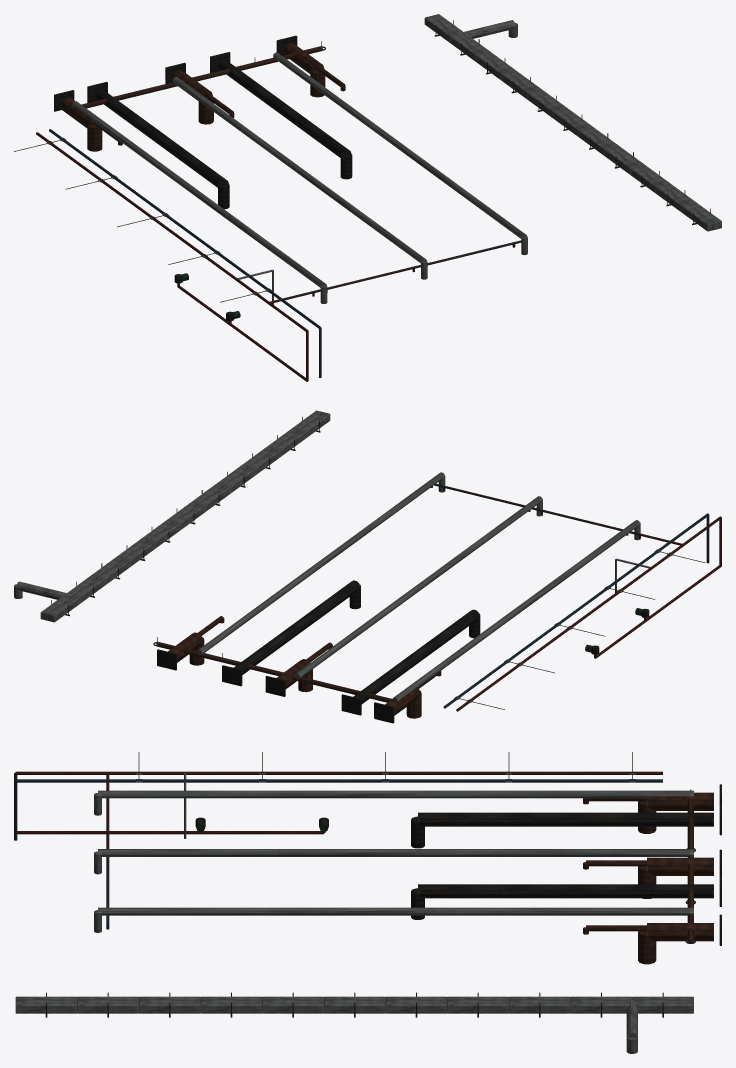
The model's file is level_school_pipework_worn.glb.
3 renders of one model, top to bottom at view 1: azimuth 30°, elevation 25°; view 2: azimuth 150°, elevation 25°; view 3: azimuth 270°, elevation 25°, orthographic. The views are drawn at different scales.
Visible parts, largest first — view 1: level_school_pipework_worn; view 2: level_school_pipework_worn; view 3: level_school_pipework_worn.
Part boxes in pixels (x1,y1,x2,y2): level_school_pipework_worn: (14, 14, 721, 381); level_school_pipework_worn: (14, 410, 721, 723); level_school_pipework_worn: (14, 752, 721, 1053).
Size of the model in its own units: 22.57 by 2.66 by 22.97.
6 materials, 6 textured.
